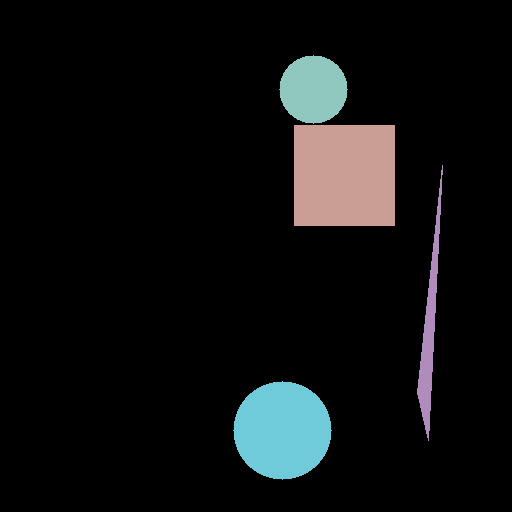circle: (233, 381, 331, 479), (279, 55, 347, 123)
square: (294, 125, 394, 225)
triangle: (417, 165, 442, 440)
